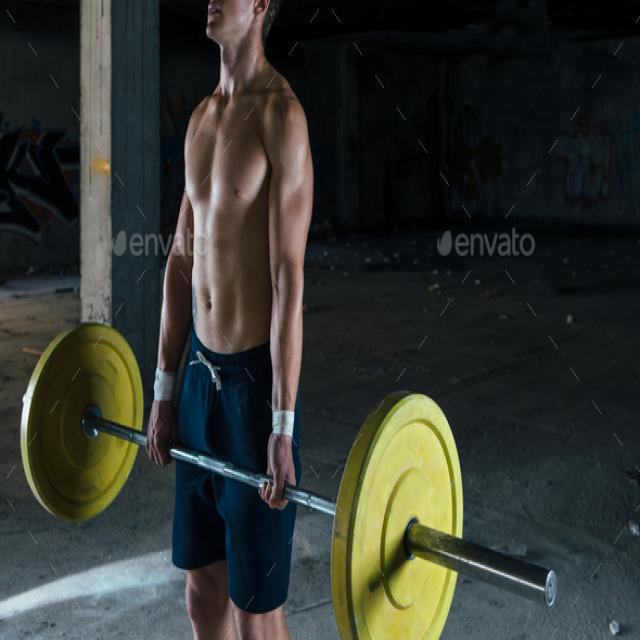barbell_plate_side: (18, 319, 153, 638), (422, 319, 556, 638)
